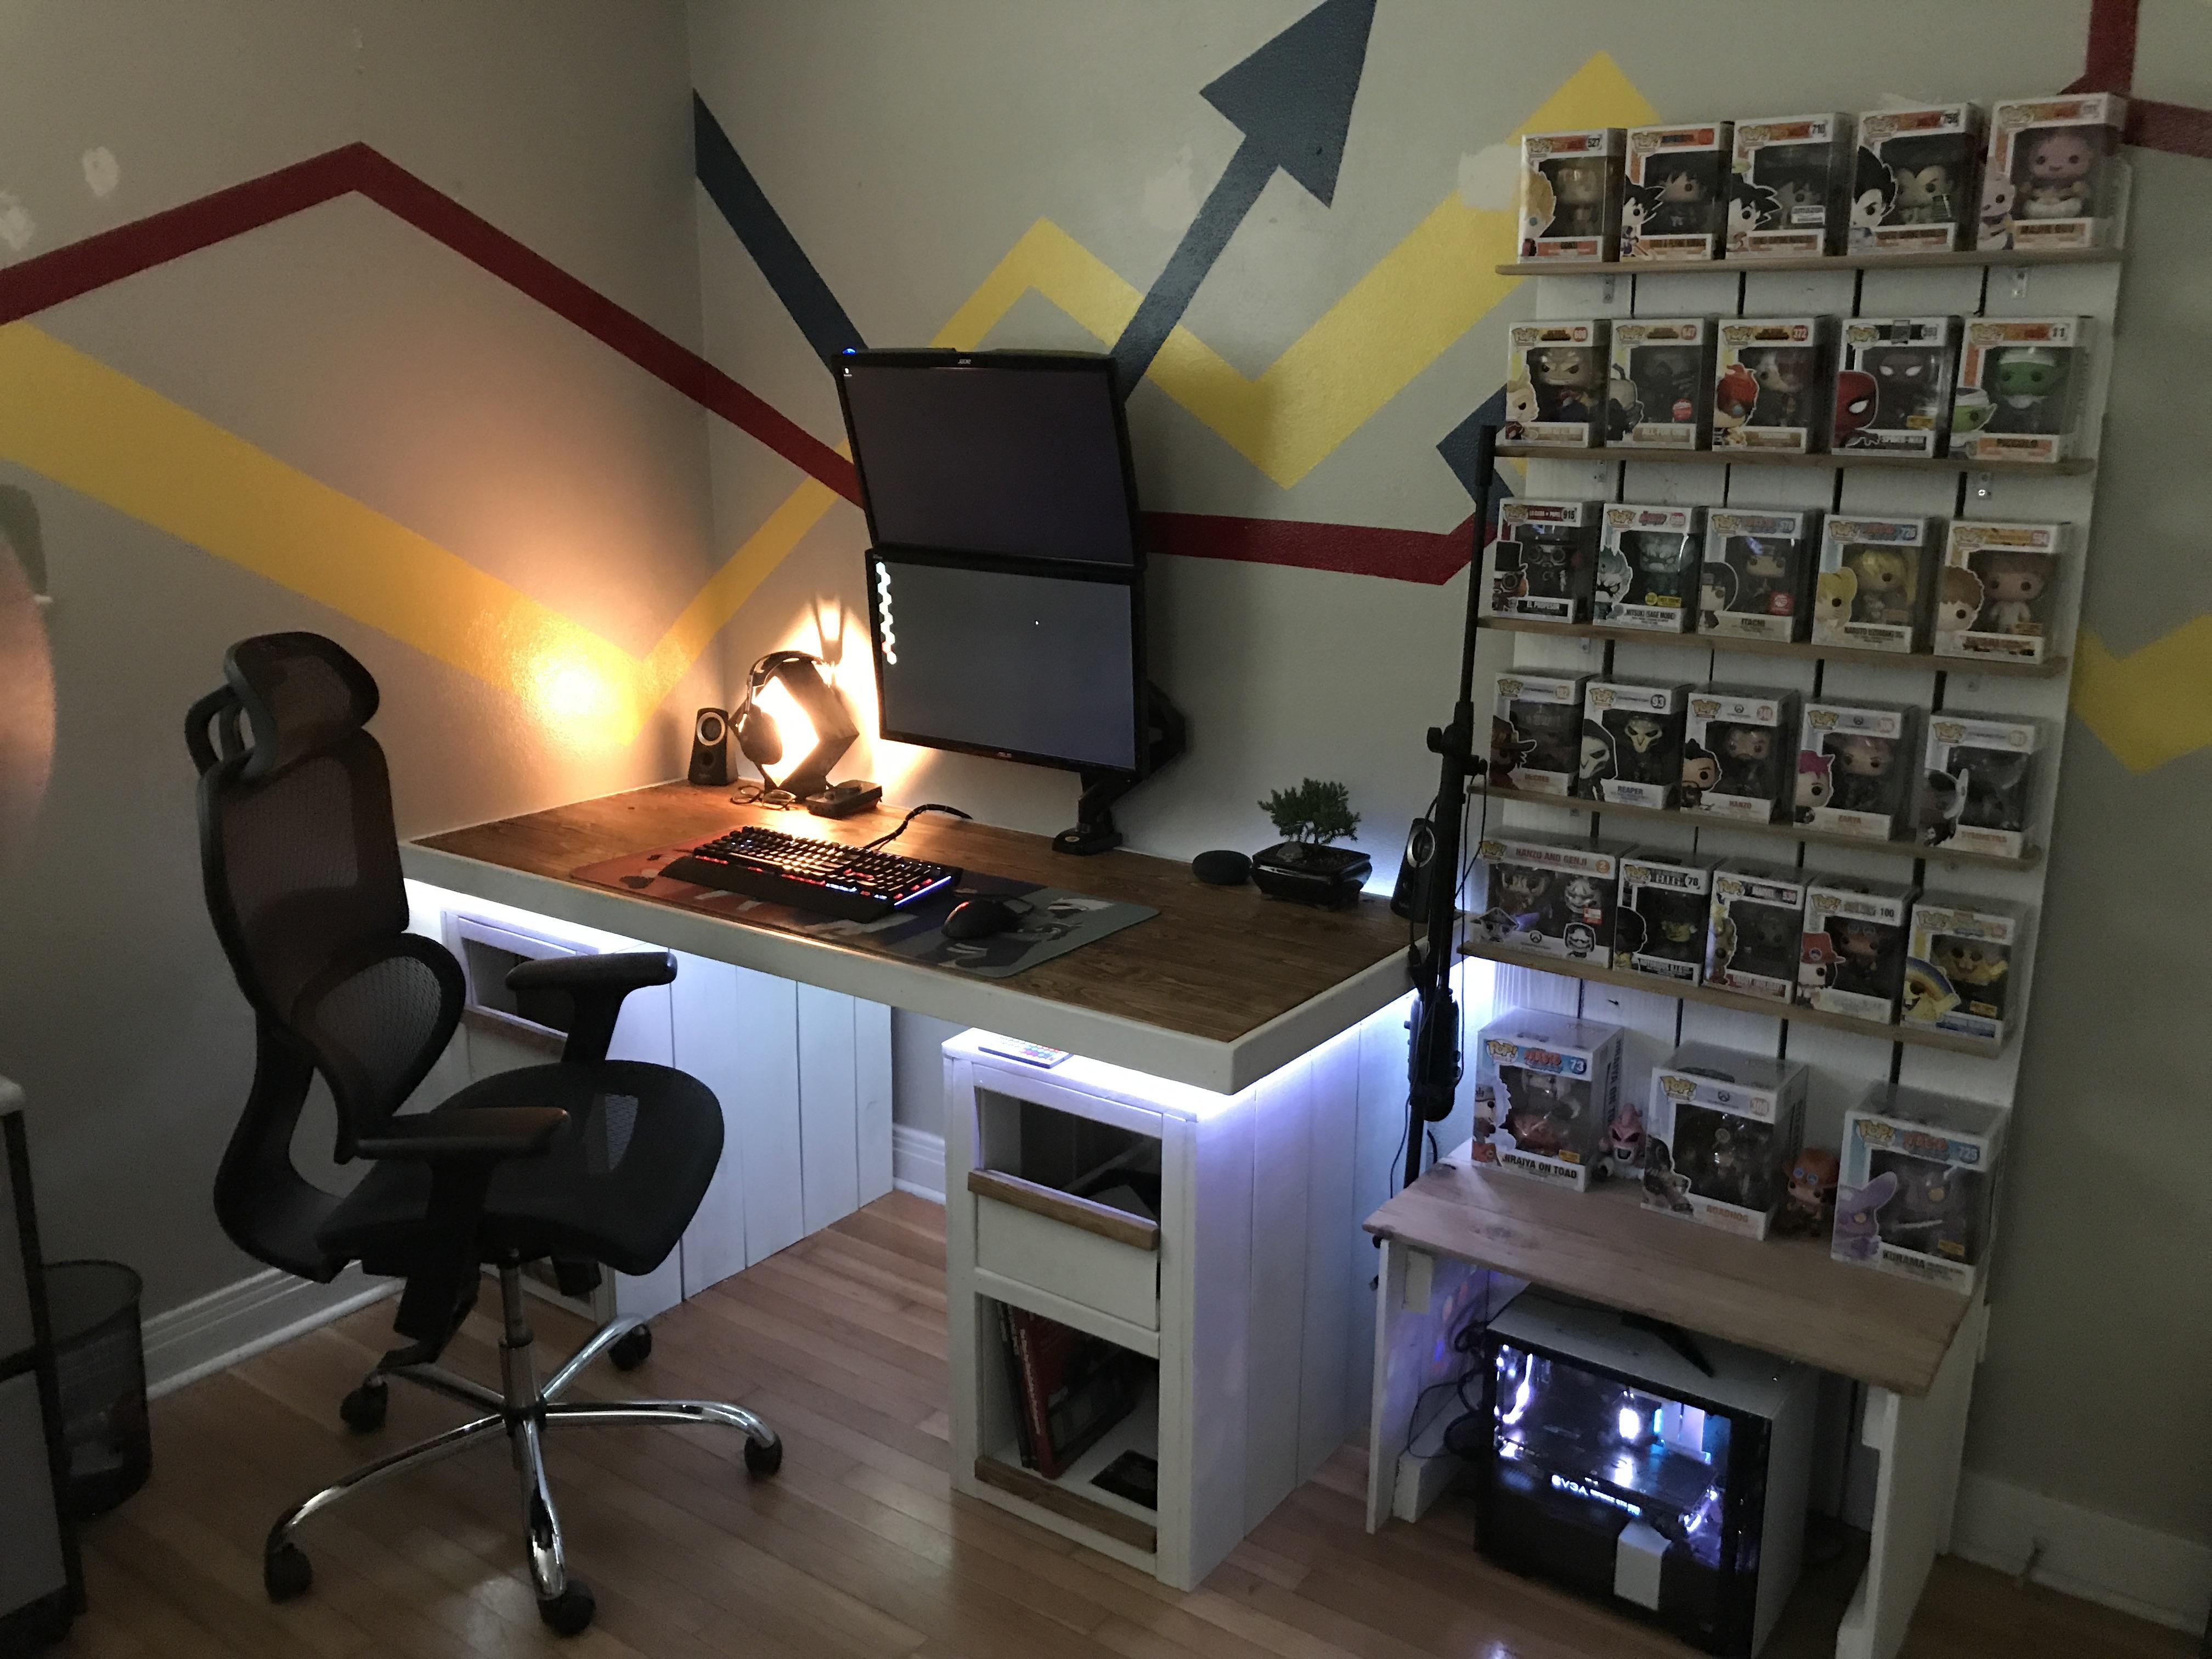Book: (991, 1302, 1137, 1478)
Chair (Generic): (186, 627, 784, 1638)
Decoration (Generic): (1470, 84, 2120, 1297)
Decoration (Plant): (1251, 775, 1372, 911)
Desk (Generic): (397, 772, 1480, 1598)
Desktop (Generic): (1479, 1279, 1822, 1654)
External Microphone (with Boom Arm): (1402, 425, 1505, 1192)
External Speakers (Generic): (1386, 817, 1440, 924), (683, 709, 737, 784)
Headphones: (733, 650, 841, 765)
Keyboard (Gaming): (658, 826, 965, 924)
Lamp (Desk): (726, 660, 860, 802)
Monitor (Landscape): (831, 347, 1150, 570), (864, 545, 1153, 775)
Mouse (Gaming): (942, 896, 1021, 938)
Mousepad (Gaming): (568, 824, 1162, 976)
Trash Can: (24, 1258, 158, 1525)
